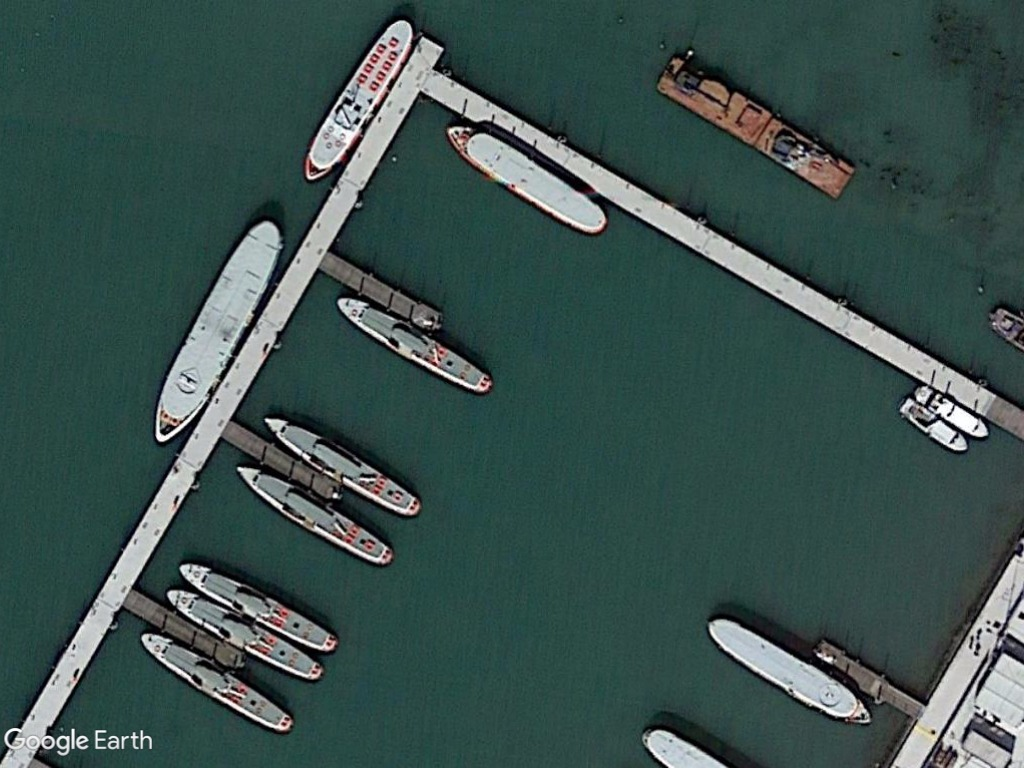boat: (137, 213, 285, 449), (700, 613, 876, 732), (441, 121, 614, 240), (299, 14, 417, 187), (233, 450, 398, 567), (262, 408, 426, 520), (330, 294, 498, 400), (138, 630, 298, 737), (172, 560, 344, 658), (160, 585, 325, 681), (912, 380, 994, 444), (895, 393, 971, 456)
